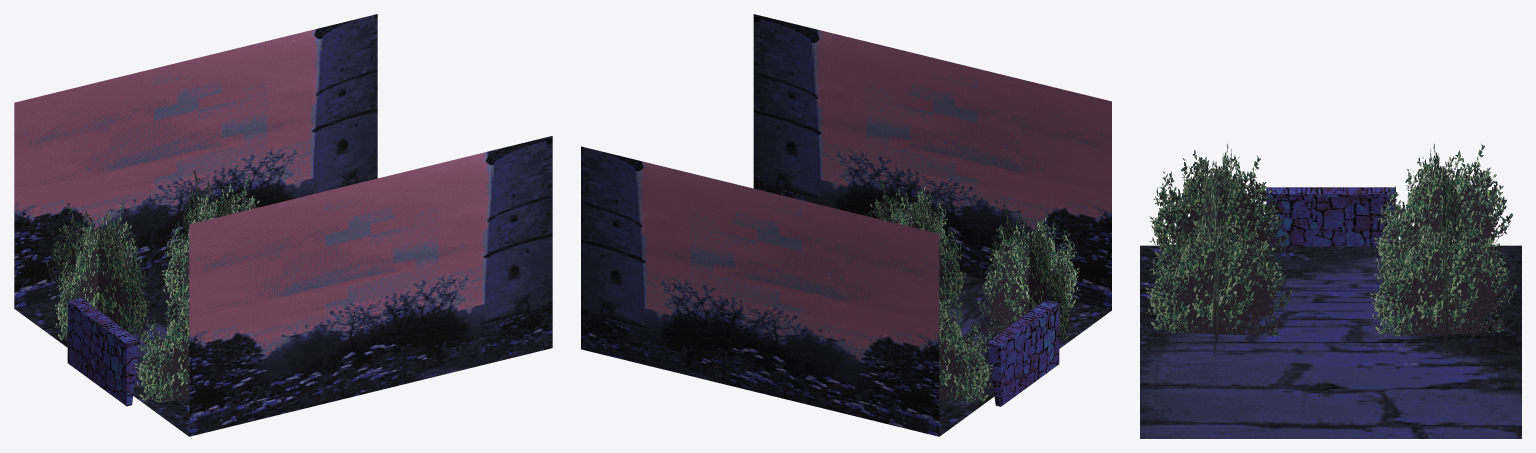
File: outside.fbx
The picture shows the model from 3 angles, left to right: view 1: azimuth 30°, elevation 25°; view 2: azimuth 150°, elevation 25°; view 3: azimuth 270°, elevation 25°; orthographic projection. The views are drawn at different scales.
Visible parts, largest first — view 1: Plane, Plane.001, Cube, Plane.002, Plane.003; view 2: Plane, Plane.002, Cube, Plane.001, Plane.004; view 3: Plane, Plane.003, Plane.004, Plane.001, Plane.002, Cube.
Part boxes in pixels (x1,y1,x2,y2): Plane: (14,14,552,436); Plane.001: (46,200,149,340); Cube: (67,297,140,406); Plane.002: (134,293,189,401); Plane.003: (161,170,259,307); Plane: (581,14,1111,436); Plane.002: (977,203,1079,342); Cube: (987,300,1059,406); Plane.001: (939,295,992,402); Plane.004: (864,178,966,309); Plane: (1140,245,1521,438); Plane.003: (1370,210,1516,358); Plane.004: (1145,210,1292,358); Plane.001: (1374,143,1512,286); Plane.002: (1149,144,1288,274); Cube: (1266,187,1395,246).
Size of the model in its own units: 1250 by 721 by 1021.
